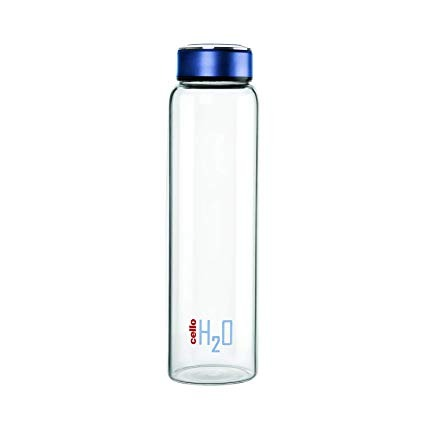container: (150, 40, 279, 392)
